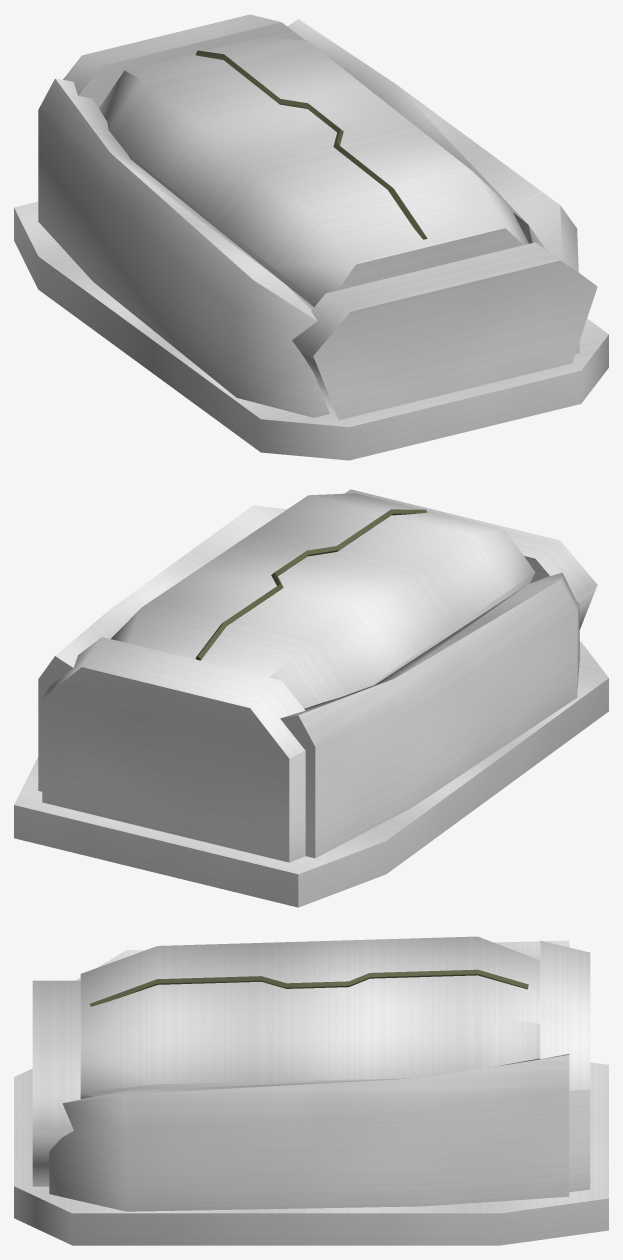
Rendered from mech_capsule_closed.obj.
3 views of the same model, one above another, from view 1: azimuth 30°, elevation 25°; view 2: azimuth 150°, elevation 25°; view 3: azimuth 270°, elevation 25° (orthographic). The views are drawn at different scales.
Visible parts, largest first — view 1: source_component_015, source_component_002, source_component_007, source_component_000, source_component_004, source_component_006, source_component_016; view 2: source_component_015, source_component_006, source_component_002, source_component_000, source_component_004, source_component_007, source_component_016; view 3: source_component_004, source_component_015, source_component_000, source_component_006, source_component_007, source_component_016, source_component_002.
Part boxes in pixels (bbox=[...]): source_component_015: bbox=[99, 37, 528, 306]; source_component_002: bbox=[38, 78, 329, 417]; source_component_007: bbox=[292, 242, 597, 419]; source_component_000: bbox=[14, 201, 608, 460]; source_component_004: bbox=[287, 19, 579, 353]; source_component_006: bbox=[63, 14, 304, 107]; source_component_016: bbox=[195, 50, 427, 239]; source_component_015: bbox=[111, 493, 535, 708]; source_component_006: bbox=[42, 637, 305, 862]; source_component_002: bbox=[280, 572, 579, 858]; source_component_000: bbox=[14, 641, 608, 907]; source_component_004: bbox=[38, 505, 286, 791]; source_component_007: bbox=[345, 489, 597, 629]; source_component_016: bbox=[195, 509, 427, 660]; source_component_004: bbox=[49, 1054, 569, 1211]; source_component_015: bbox=[80, 936, 540, 1098]; source_component_000: bbox=[14, 1062, 608, 1245]; source_component_006: bbox=[540, 940, 590, 1192]; source_component_007: bbox=[32, 980, 80, 1186]; source_component_016: bbox=[90, 969, 528, 1006]; source_component_002: bbox=[76, 940, 569, 980].
Bounding box in the file's own units: 1.86 × 1.03 × 2.86.
